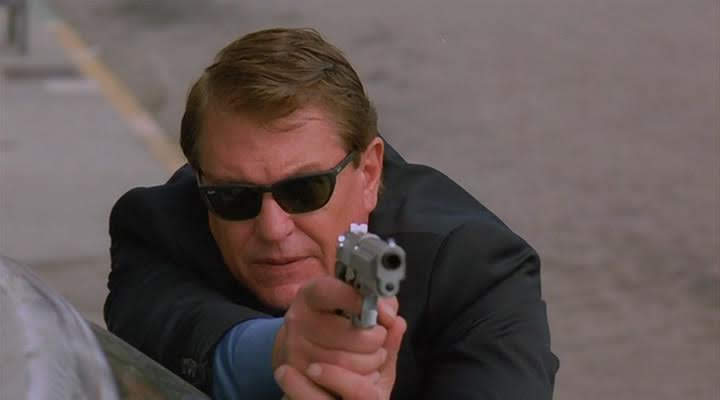gun: (333, 218, 423, 343)
